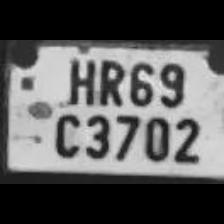0: (139, 110, 169, 162)
2: (170, 112, 202, 164)
3: (80, 108, 110, 160)
6: (124, 57, 154, 106)
7: (109, 108, 137, 162)
9: (155, 58, 187, 106)
C: (49, 105, 81, 157)
H: (60, 54, 96, 104)
R: (94, 56, 124, 106)
